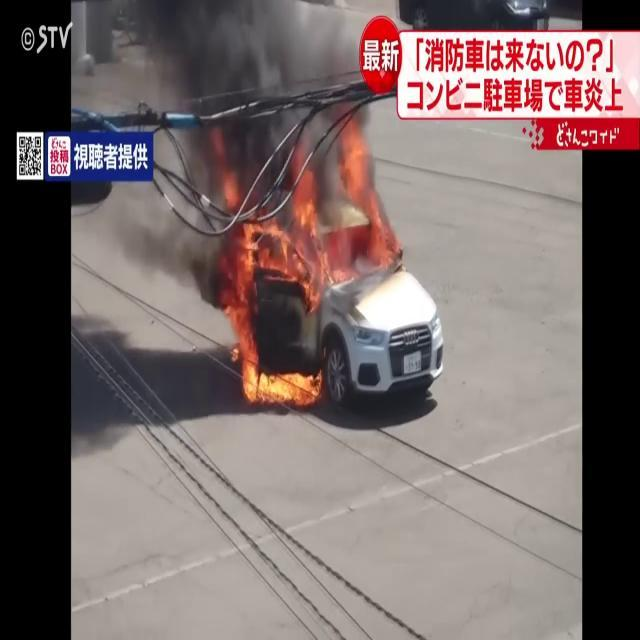Fire: (221, 138, 391, 402), (240, 360, 322, 410)
Smoke: (104, 0, 390, 184)
